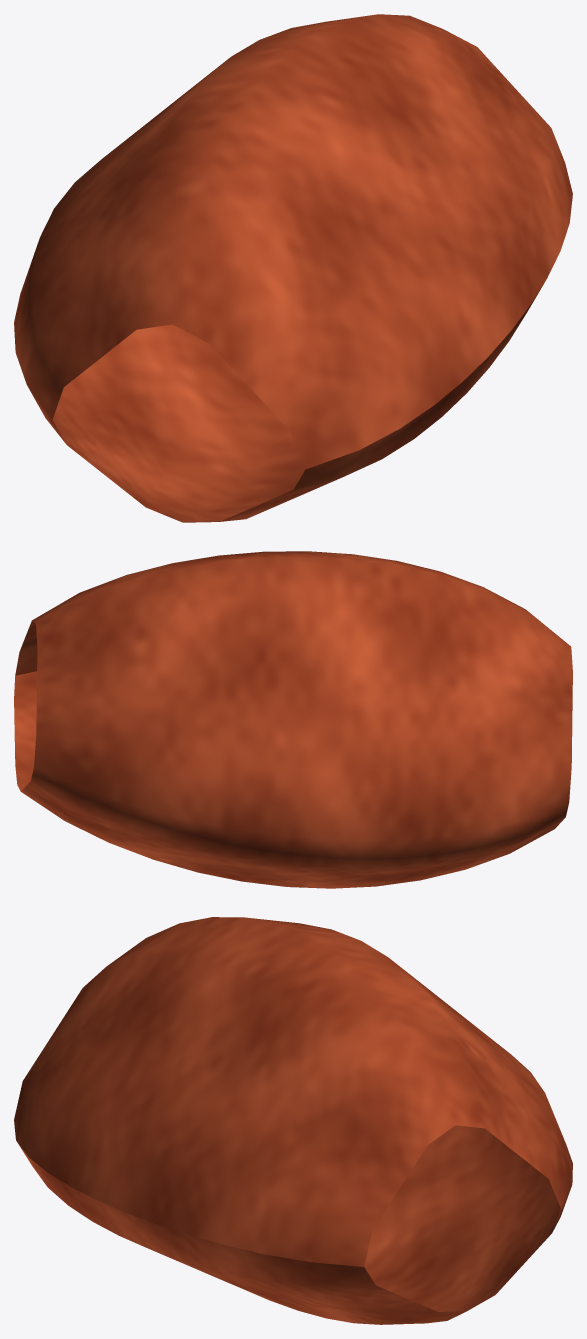
The model's file is 03_Meat_Braised_Left.obj.
3 views of the same model, one above another, from view 1: azimuth 30°, elevation 25°; view 2: azimuth 150°, elevation 25°; view 3: azimuth 270°, elevation 25° (orthographic). The views are drawn at different scales.
Parts seen in each view (by area): view 1: 03_Meat_Braised_Left; view 2: 03_Meat_Braised_Left; view 3: 03_Meat_Braised_Left.
Part boxes in pixels (x1,y1,x2,y2): 03_Meat_Braised_Left: (14, 14, 572, 522); 03_Meat_Braised_Left: (14, 551, 572, 888); 03_Meat_Braised_Left: (14, 917, 572, 1324).
Size of the model in its own units: 0.0615 by 0.0382 by 0.0544.
Materials: 1 (1 with a texture image).
